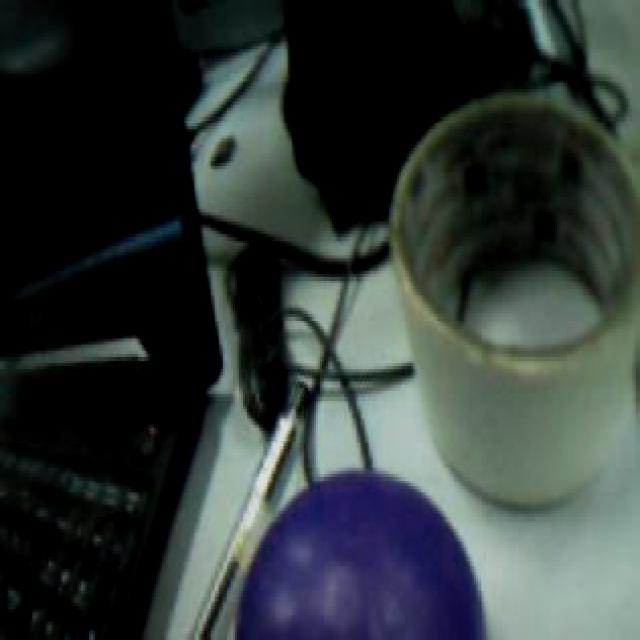BallPurple: (236, 468, 485, 640)
